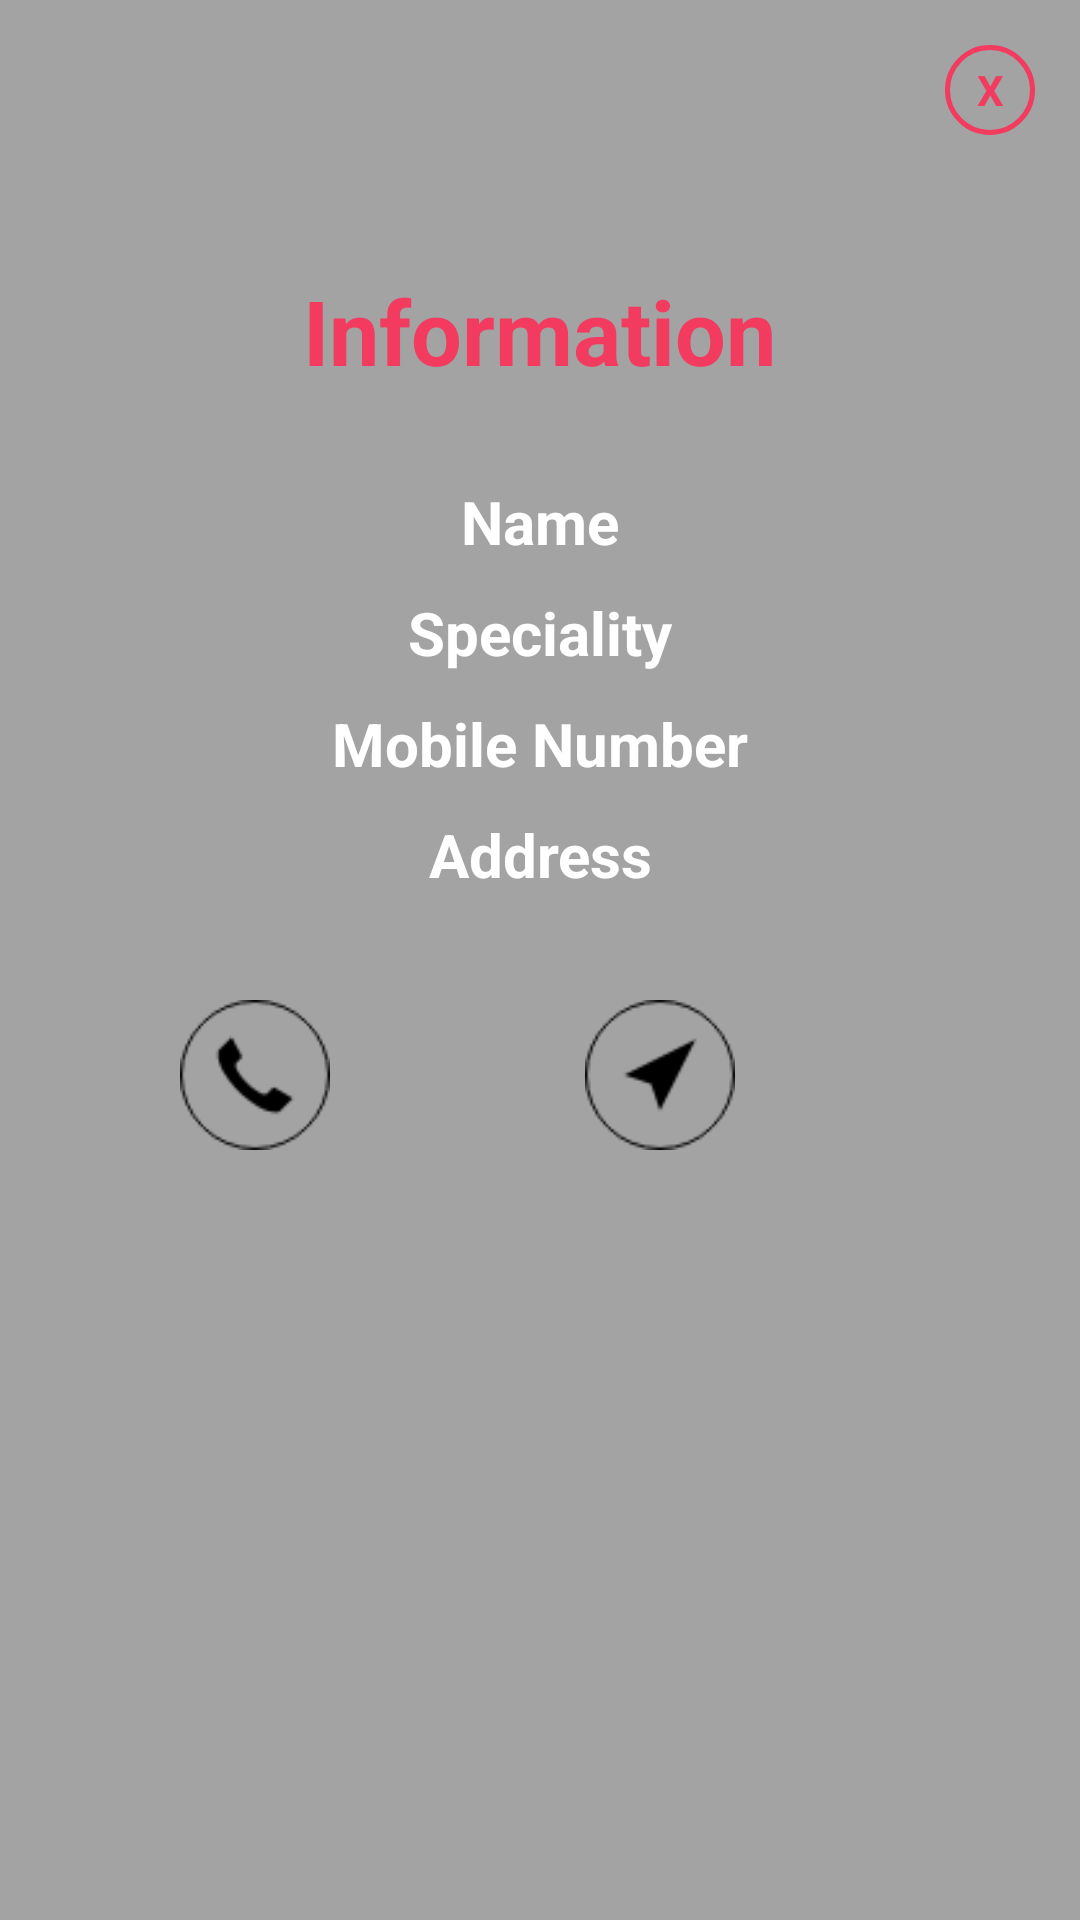

Named icons in this screenshot (1080 x 1920) and their bounding boxes, BBox(x1, y1, x2, y2):
call: BBox(180, 1000, 330, 1150)
location: BBox(585, 1000, 735, 1150)
